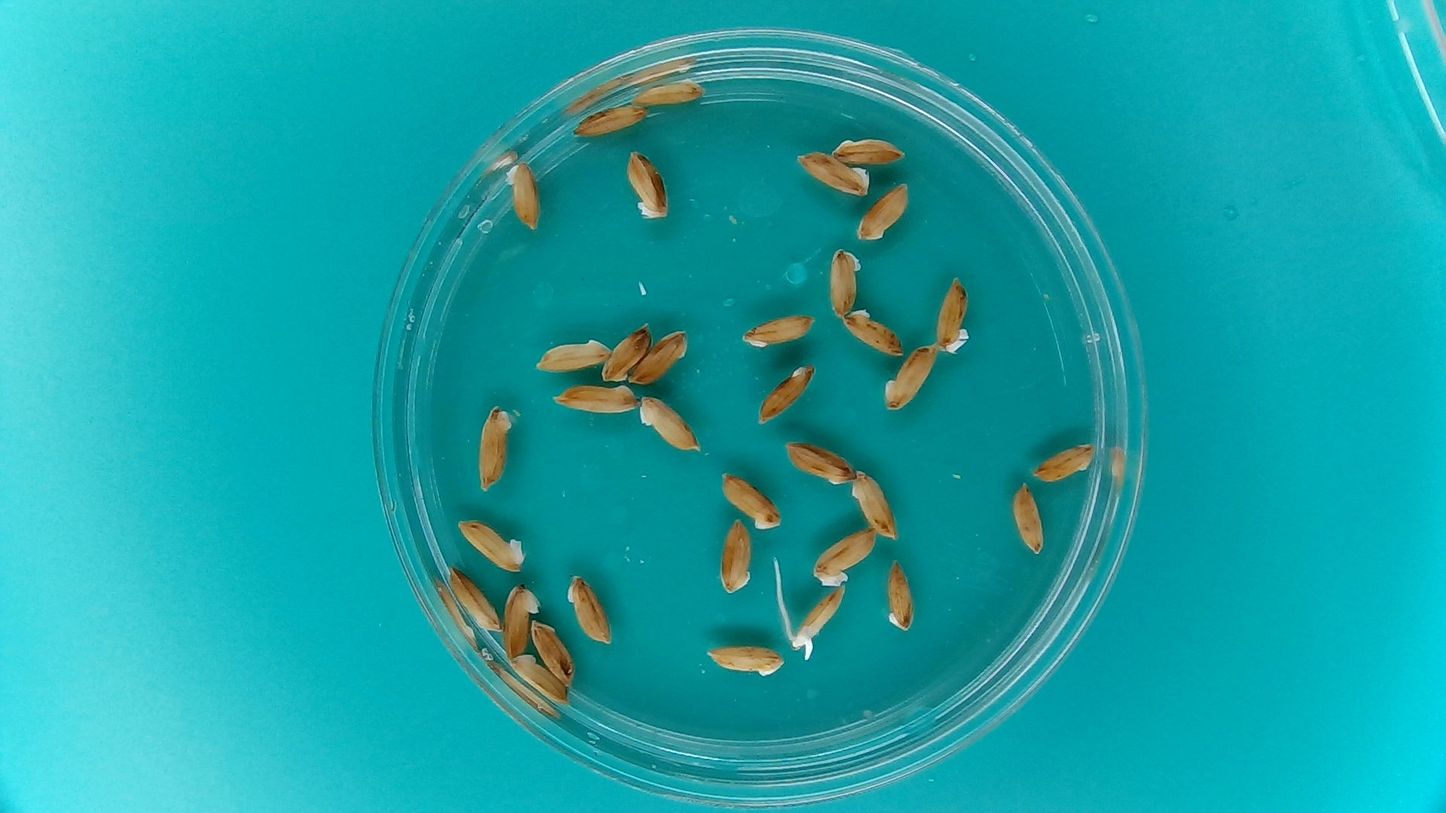no: (452, 514, 529, 574), (810, 523, 880, 586), (880, 341, 940, 414), (563, 571, 618, 650), (472, 399, 517, 495), (755, 359, 818, 426), (717, 469, 784, 531), (636, 392, 703, 454), (443, 562, 502, 632), (792, 148, 873, 197), (626, 327, 691, 387), (850, 467, 901, 541), (624, 146, 673, 223), (528, 617, 578, 690), (932, 270, 974, 356), (780, 438, 855, 486), (854, 179, 911, 242), (599, 319, 653, 384), (840, 306, 907, 358), (500, 156, 544, 235), (529, 332, 613, 373), (739, 309, 819, 350), (569, 99, 650, 139), (702, 639, 785, 678), (549, 381, 640, 416), (715, 514, 753, 596), (500, 580, 538, 661), (1030, 440, 1100, 483), (825, 242, 863, 318), (1010, 480, 1047, 557), (883, 556, 918, 635), (627, 73, 708, 107), (828, 133, 907, 165)
yes: (789, 585, 847, 659)
